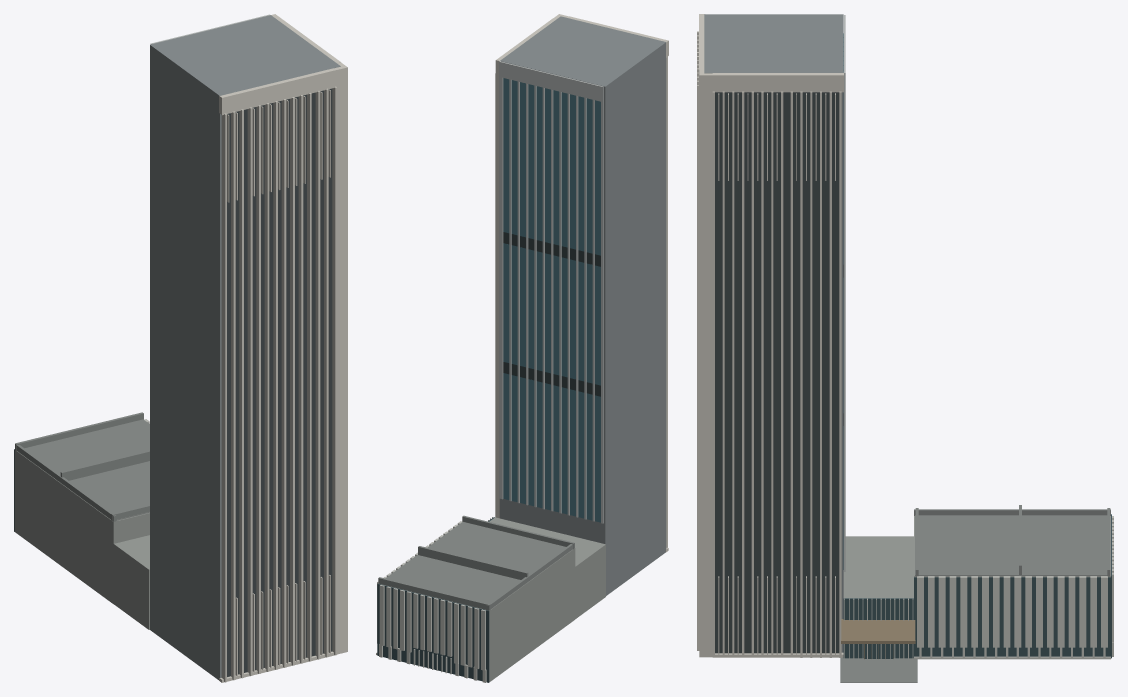
The model's file is light.glb.
The picture shows the model from 3 angles, left to right: view 1: azimuth 30°, elevation 25°; view 2: azimuth 150°, elevation 25°; view 3: azimuth 270°, elevation 25°; orthographic projection. The views are drawn at different scales.
Parts seen in each view (by area): view 1: F_principal_rib_00, E_ASSUMED_closed_body_back_roof_bottom, F_unsegmented_dark_span_00, F_unobserved_podium_plain, F_unknown_roof_neutral; view 2: E_ASSUMED_closed_body_back_roof_bottom, H_lower_glass_00, H_pale_rib_00, F_unknown_roof_neutral, F_unobserved_podium_plain, F_podium_pale_ribs, F_podium_dark_glass, F_principal_rib_00, H_lower_dark_band_00; view 3: F_unsegmented_dark_span_00, F_principal_rib_00, F_unknown_roof_neutral, F_podium_pale_ribs, F_podium_dark_glass, E_ASSUMED_closed_body_back_roof_bottom, F_unobserved_podium_plain, F_canopy_warm_metal, H_pale_rib_00.
Part boxes in pixels (x1,y1,x2,y2): F_principal_rib_00: [219, 14, 347, 682]; E_ASSUMED_closed_body_back_roof_bottom: [150, 15, 340, 679]; F_unsegmented_dark_span_00: [227, 88, 332, 676]; F_unobserved_podium_plain: [14, 450, 149, 629]; F_unknown_roof_neutral: [15, 412, 149, 521]; E_ASSUMED_closed_body_back_roof_bottom: [499, 16, 666, 595]; H_lower_glass_00: [503, 78, 600, 522]; H_pale_rib_00: [499, 61, 603, 523]; F_unknown_roof_neutral: [378, 515, 574, 610]; F_unobserved_podium_plain: [378, 517, 605, 682]; F_podium_pale_ribs: [376, 517, 493, 682]; F_podium_dark_glass: [377, 517, 494, 682]; F_principal_rib_00: [495, 14, 668, 552]; H_lower_dark_band_00: [503, 232, 600, 396]; F_unsegmented_dark_span_00: [715, 92, 839, 653]; F_principal_rib_00: [697, 14, 843, 657]; F_unknown_roof_neutral: [840, 505, 1110, 682]; F_podium_pale_ribs: [844, 516, 1113, 659]; F_podium_dark_glass: [843, 514, 1111, 658]; E_ASSUMED_closed_body_back_roof_bottom: [704, 14, 843, 652]; F_unobserved_podium_plain: [843, 516, 1110, 598]; F_canopy_warm_metal: [841, 619, 915, 659]; H_pale_rib_00: [844, 15, 845, 571].
Size of the model in its own units: 20.4 by 64.01 by 41.5.
